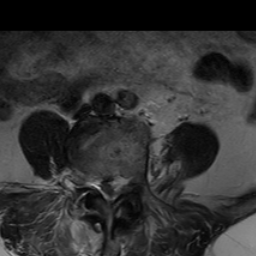CCS_normal: (104, 167, 115, 212)
LFS_normal: (126, 166, 136, 198)
LLS_normal: (115, 167, 126, 206)
RFS_normal: (84, 165, 94, 197)
RLS_normal: (94, 166, 104, 202)
